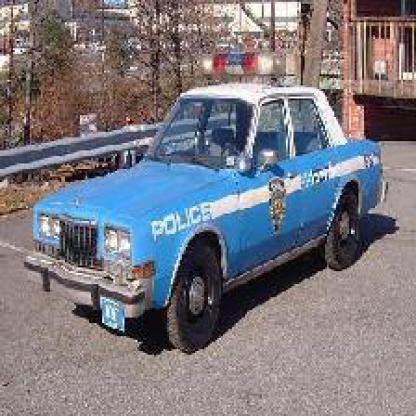emergency: (23, 78, 404, 357)
